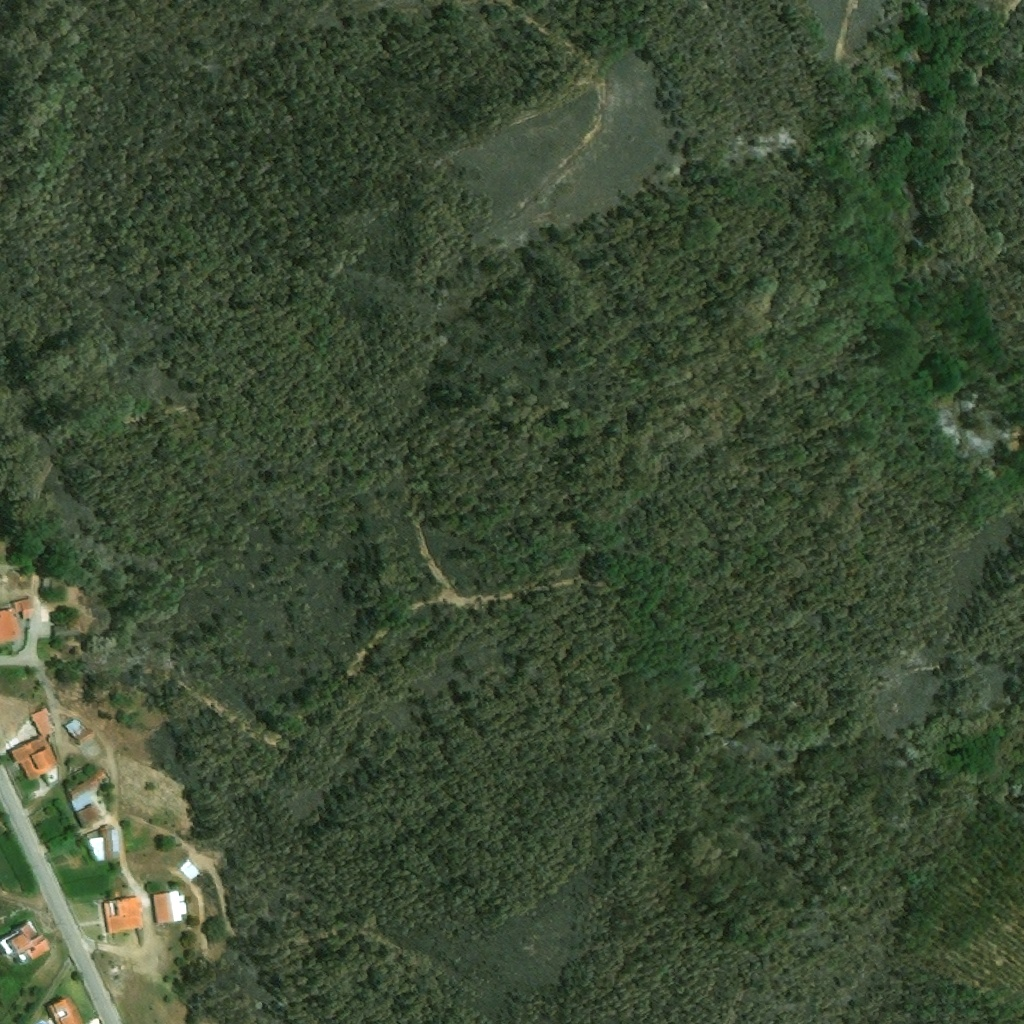0 no-damage: (8, 705, 59, 786), (65, 766, 114, 827), (0, 917, 51, 965), (0, 598, 34, 646), (102, 895, 143, 932), (84, 827, 121, 861), (44, 996, 87, 1023), (151, 891, 187, 923), (65, 718, 97, 746), (52, 619, 80, 638), (177, 858, 198, 880)
